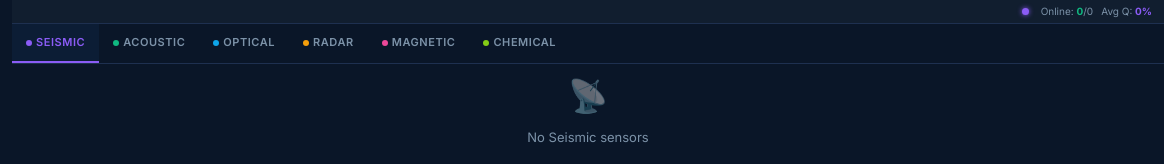
Test: SensorFamilyPanel › clicking Acoustic tab switches to Acoustic content
This screenshot has width=1164, height=164.
Click the button "Acoustic".
click(149, 43)  # box [99,24,199,62]
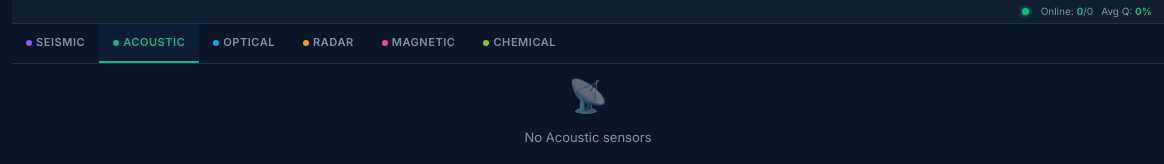
Now the text "No Acoustic sensors" is shown, box [524,128,652,147]
